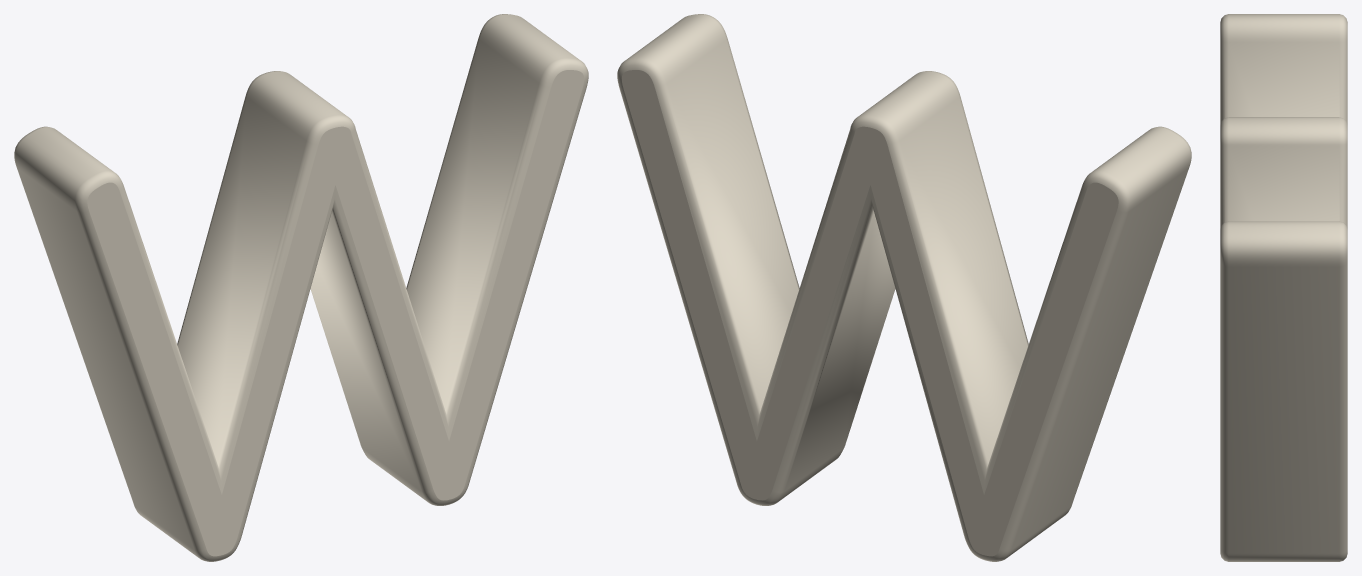
File: letter_w.glb
3 renders of one model, left to right at view 1: azimuth 30°, elevation 25°; view 2: azimuth 150°, elevation 25°; view 3: azimuth 270°, elevation 25°, orthographic. The views are drawn at different scales.
Visible parts, largest first — view 1: color_body; view 2: color_body; view 3: color_body.
Boxes of the visible parts, <box> form: color_body: <box>14,14,588,561</box>; color_body: <box>617,14,1191,561</box>; color_body: <box>1220,14,1347,561</box>.
Bounding box in the file's own units: 1.04 × 0.8128 × 0.242.
